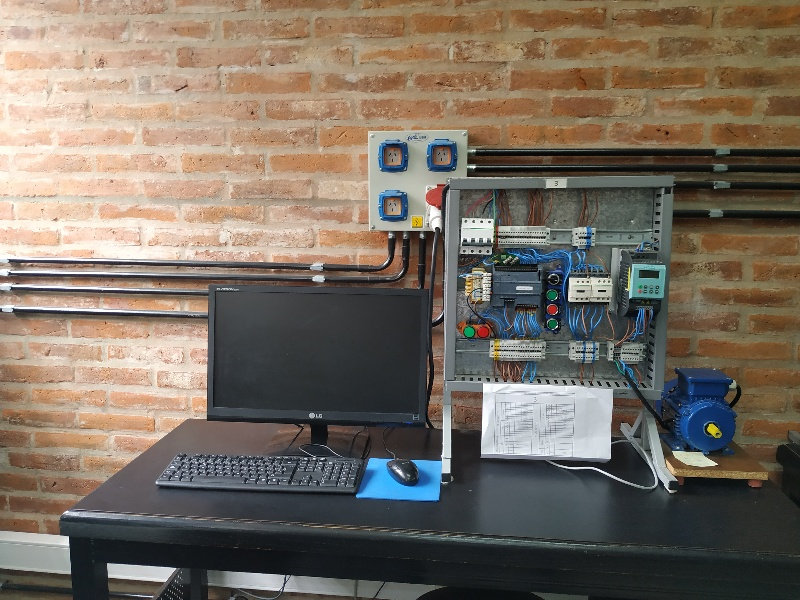Tablero 3: (456, 184, 666, 394)
